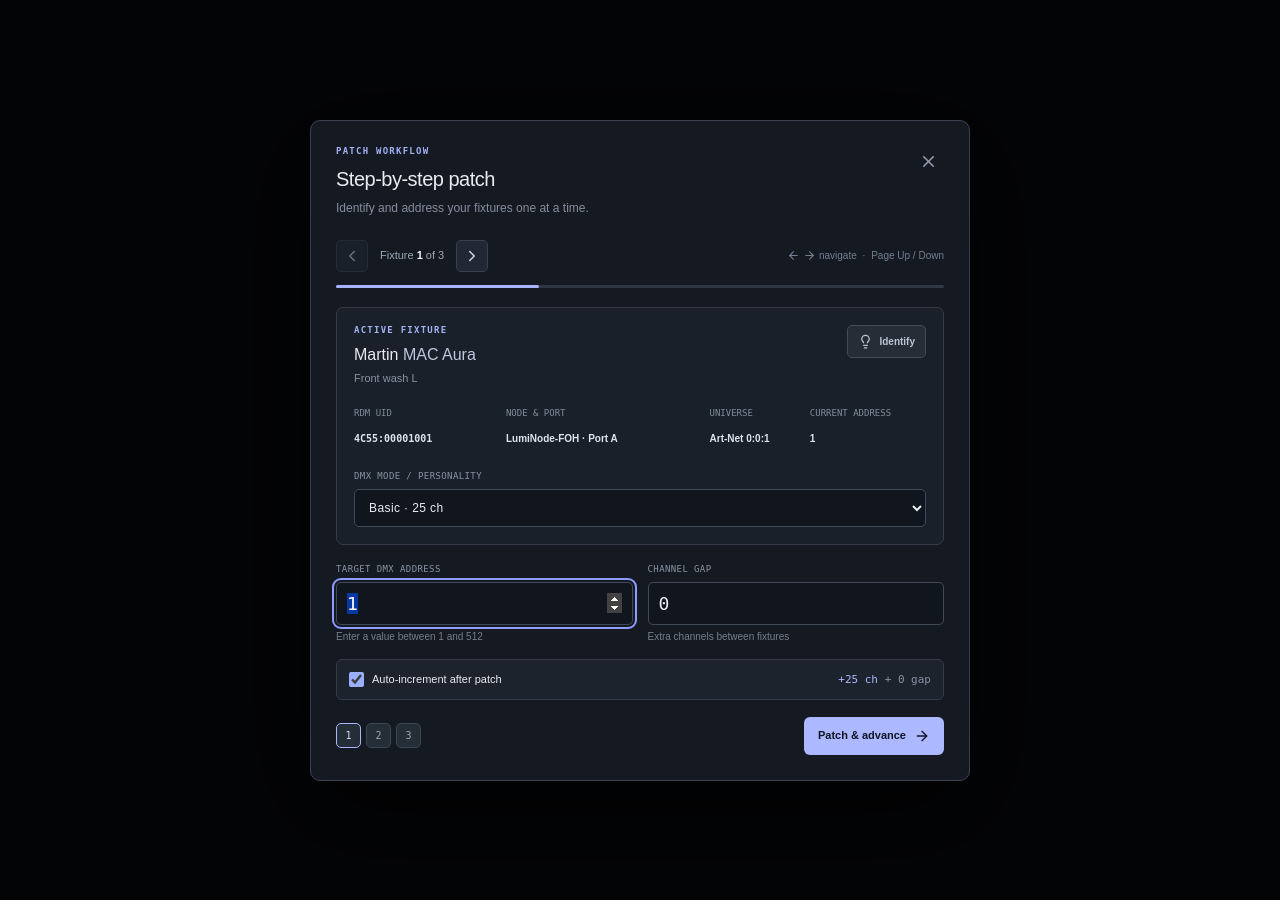
patch modal keyboard behavior › advances immediately while patch and identify confirmation are pending
Click the button "Patch & advance" at (874, 736), box 804,716 -> 944,754
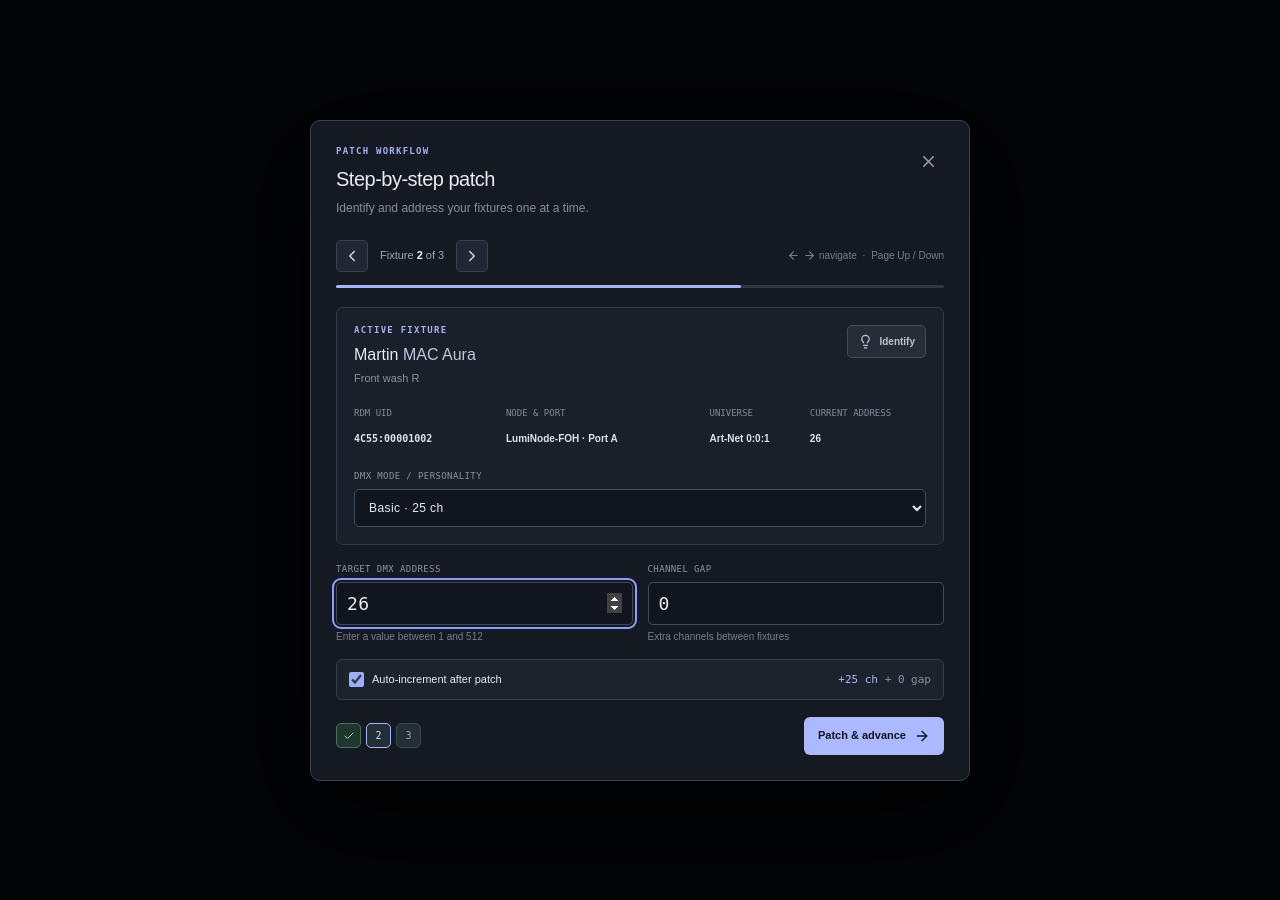
Expected: the button named "Fixture 1 · done" is shown, 336,723 -> 361,748
Result: the text "Fixture 2 of 3" is shown at 380,247 -> 444,264
